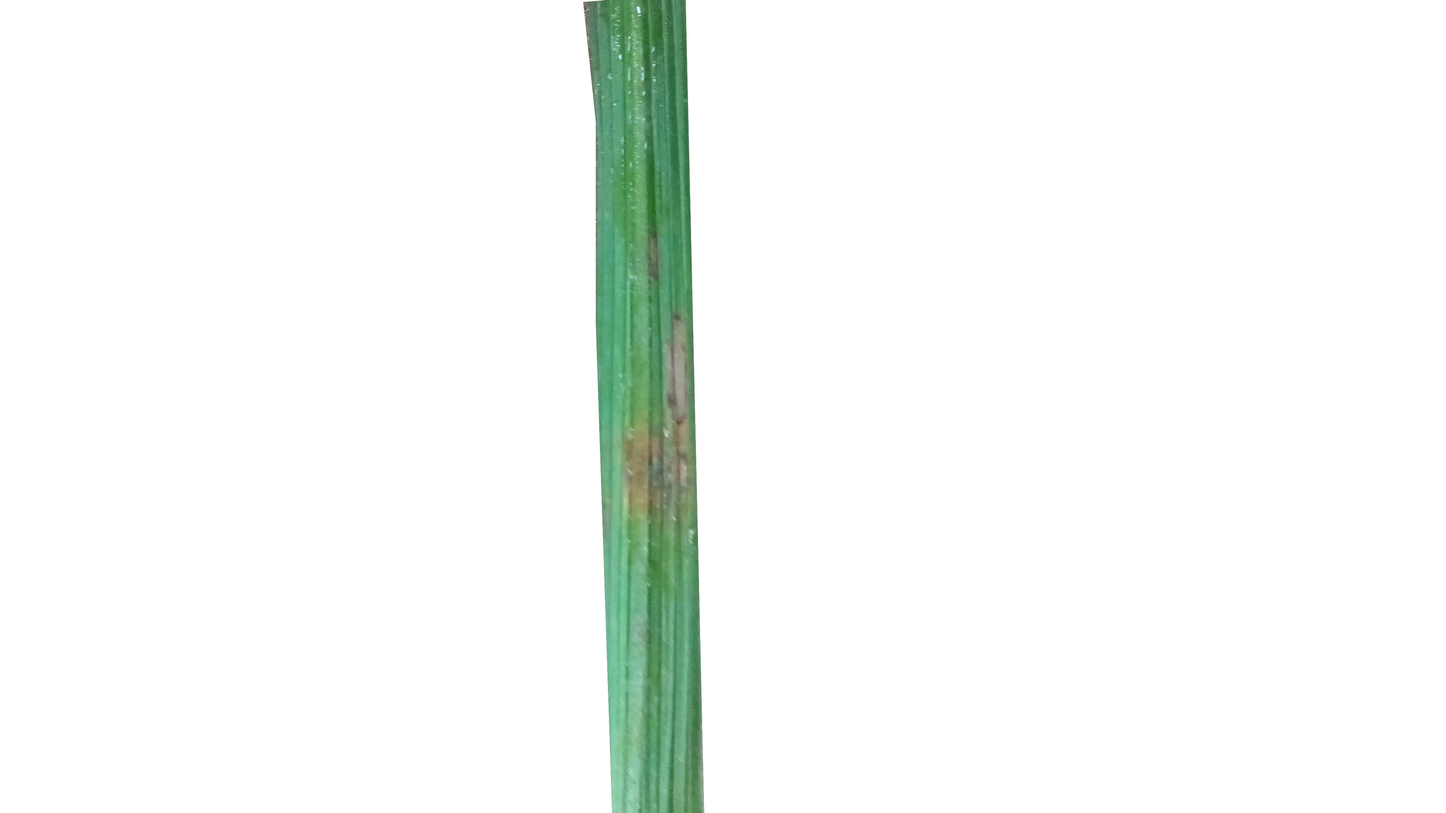Rice blast: (615, 312, 688, 578), (640, 217, 668, 287)
